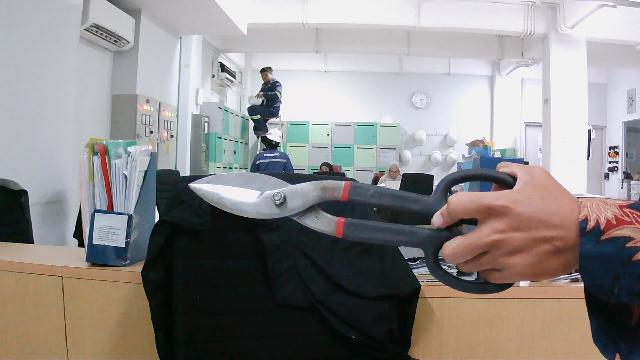gunting_plat: (171, 147, 539, 307)
